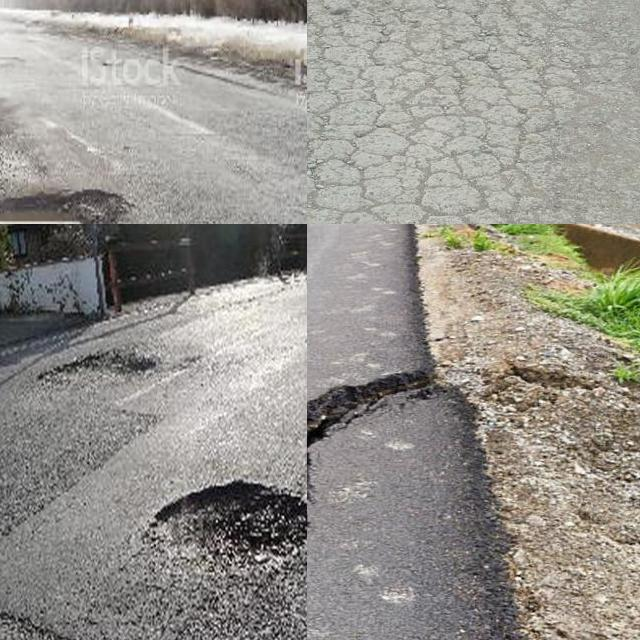Lubang: (157, 482, 307, 556), (0, 188, 118, 224), (50, 350, 154, 375)
Pinggir: (307, 360, 529, 640)
Retak Buaya: (307, 0, 597, 224)
